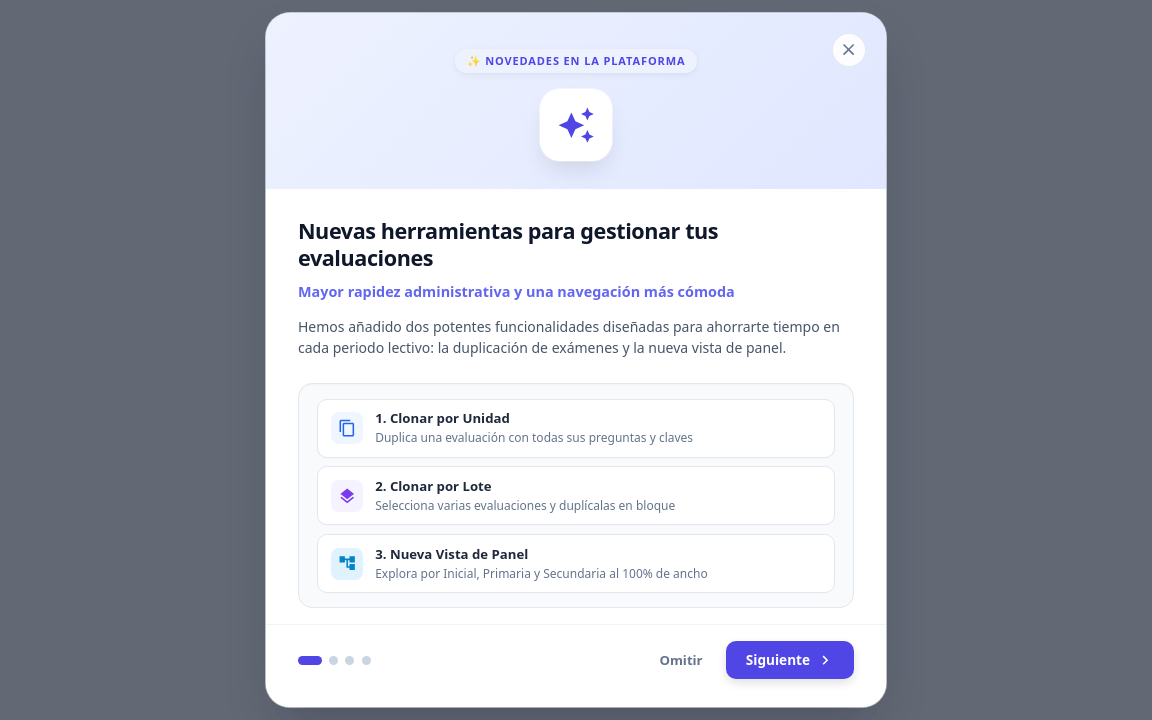
Scenario: EvaluacionesOnboardingModal › navega directamente al hacer clic en los puntos indicadores (dots)
This screenshot has width=1152, height=720.
Click the button titled "Ir al paso 3" at (350, 660), box [345,656,354,665]
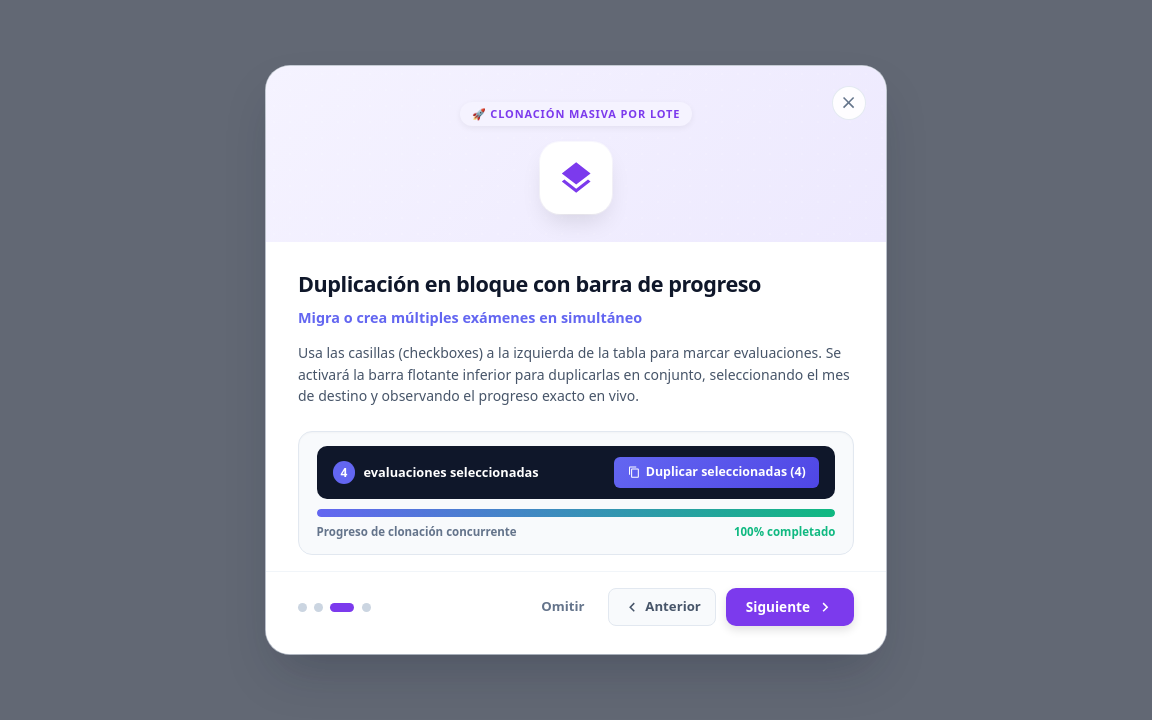
Expected: the heading "Duplicación en bloque con barra de progreso" is shown, [298,269,761,298]
